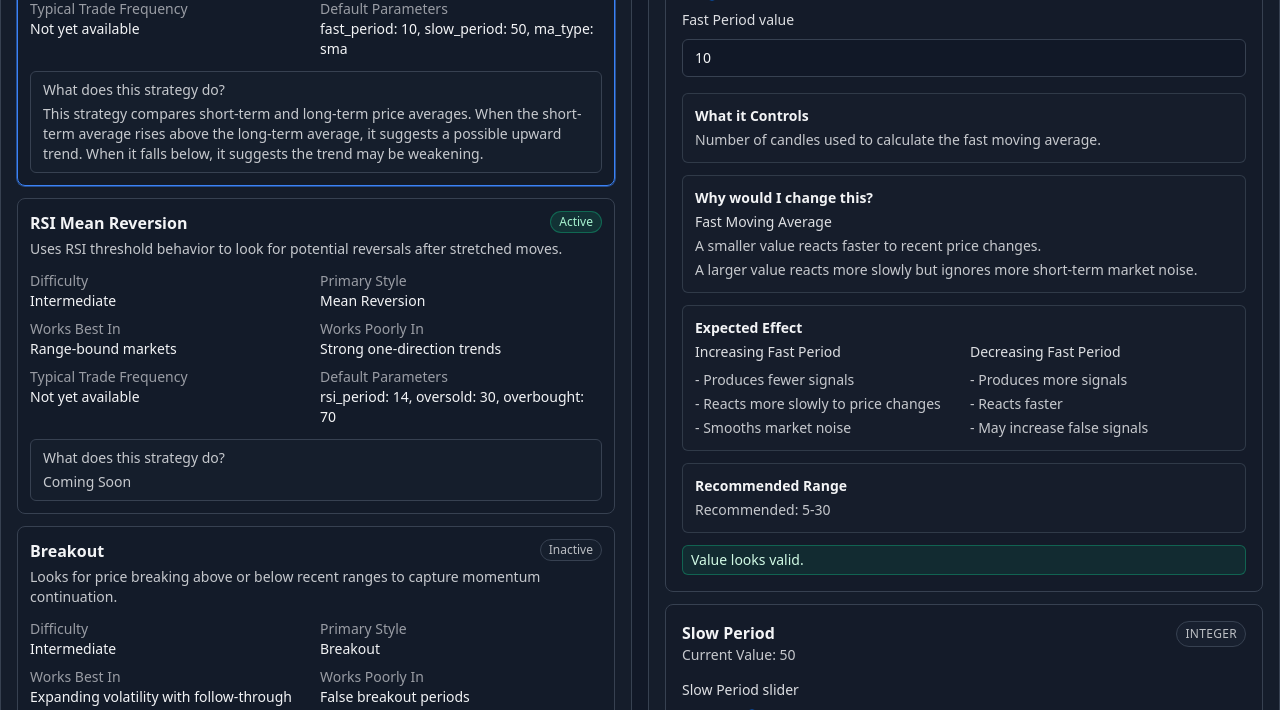
Test case: StrategyLabPage Prompt 4.2 › renders percentage slider control when selecting RSI strategy
(page scrolled)
Step 1. Click the button with aria-label "Select strategy RSI Mean Reversion" → (316, 356), box left=30, top=211, right=602, bottom=501
(page scrolled)
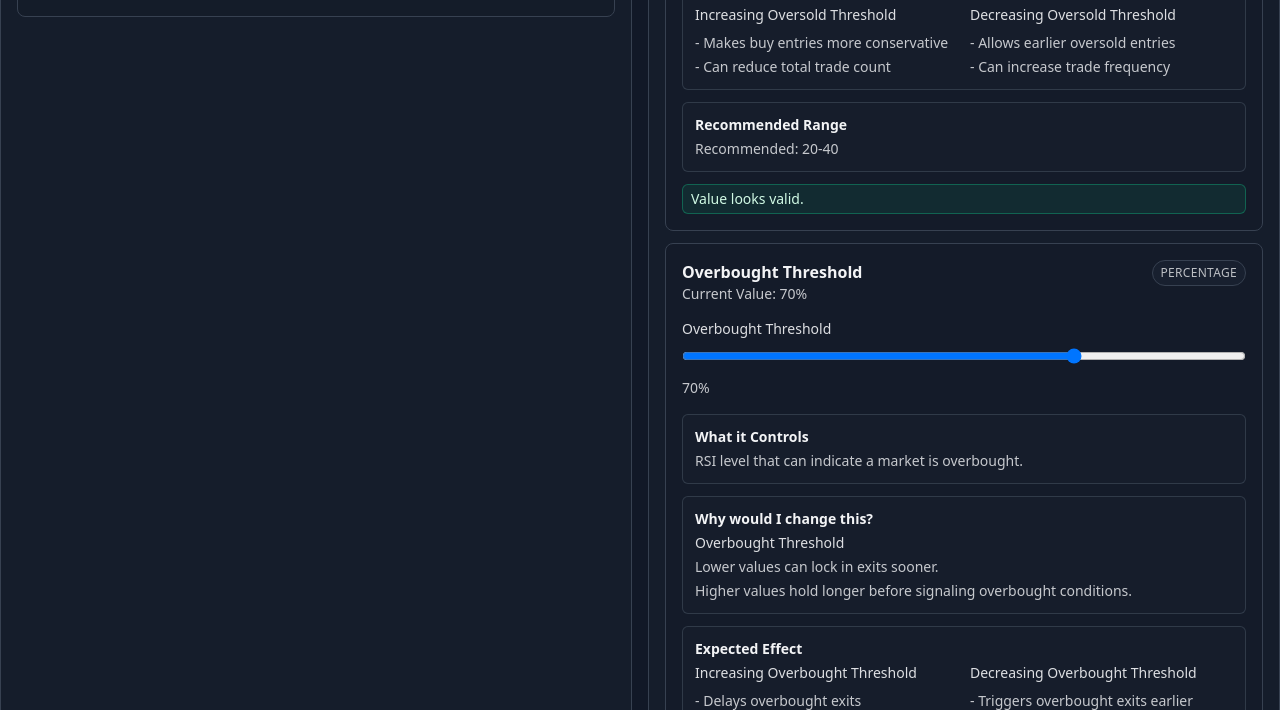
Check: the slider named "Overbought Threshold slider" is shown, box left=682, top=348, right=1246, bottom=364
